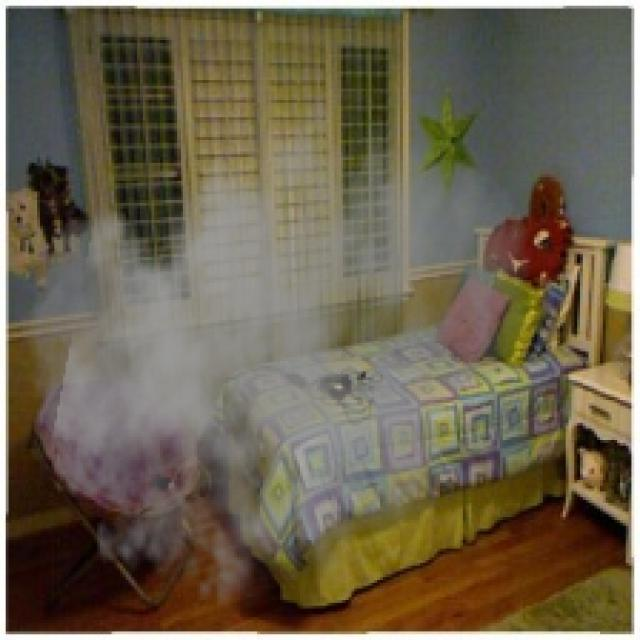smoke: (14, 74, 534, 626)
